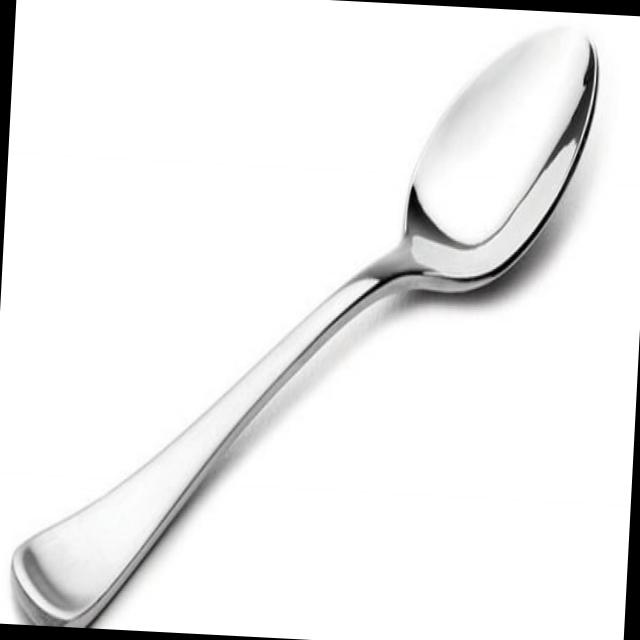spoon: (4, 0, 609, 640)
